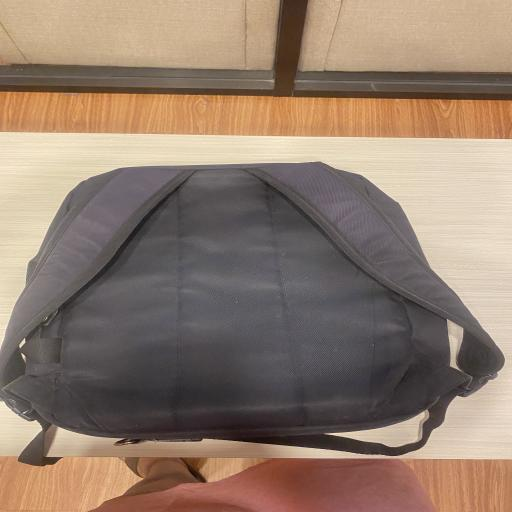tas ransel: (0, 164, 498, 466)
